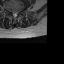CCS_normal: (14, 11, 16, 18)
LFS_normal: (18, 8, 20, 13)
LLS_normal: (16, 11, 18, 17)
RFS_severe_stenosis: (10, 8, 12, 14)
RLS_normal: (12, 10, 14, 18)
